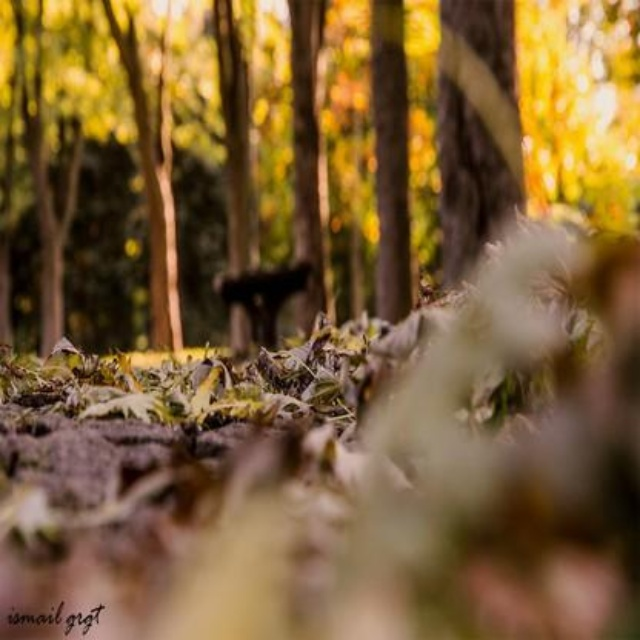obstacle: (205, 217, 332, 351)
